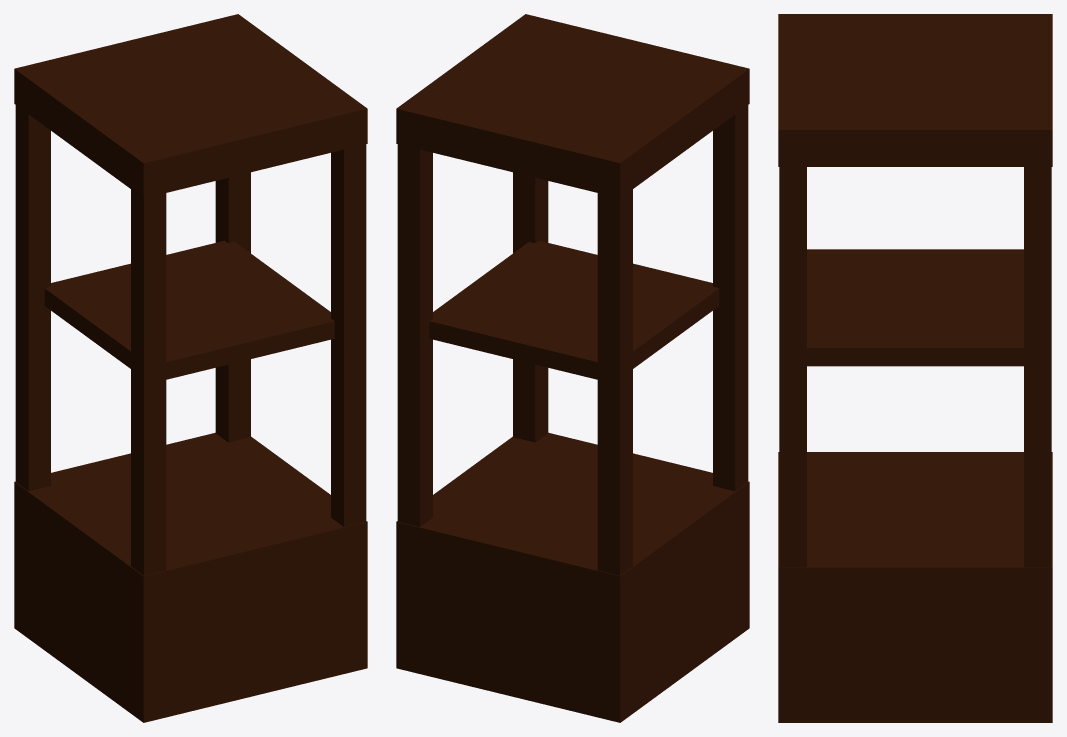
Rendered from TrophyCabinetOutGlass.fbx.
3 renders of one model, left to right at view 1: azimuth 30°, elevation 25°; view 2: azimuth 150°, elevation 25°; view 3: azimuth 270°, elevation 25°, orthographic. The views are drawn at different scales.
Visible parts, largest first — view 1: TrophyCabinet; view 2: TrophyCabinet; view 3: TrophyCabinet.
Part boxes in pixels (x1,y1,x2,y2): TrophyCabinet: (14, 14, 367, 722); TrophyCabinet: (396, 14, 749, 722); TrophyCabinet: (778, 14, 1052, 722).
Bounding box in the file's own units: 80 × 191 × 80.
